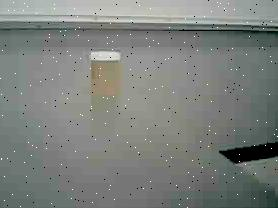Bottle B: (83, 47, 128, 101)
